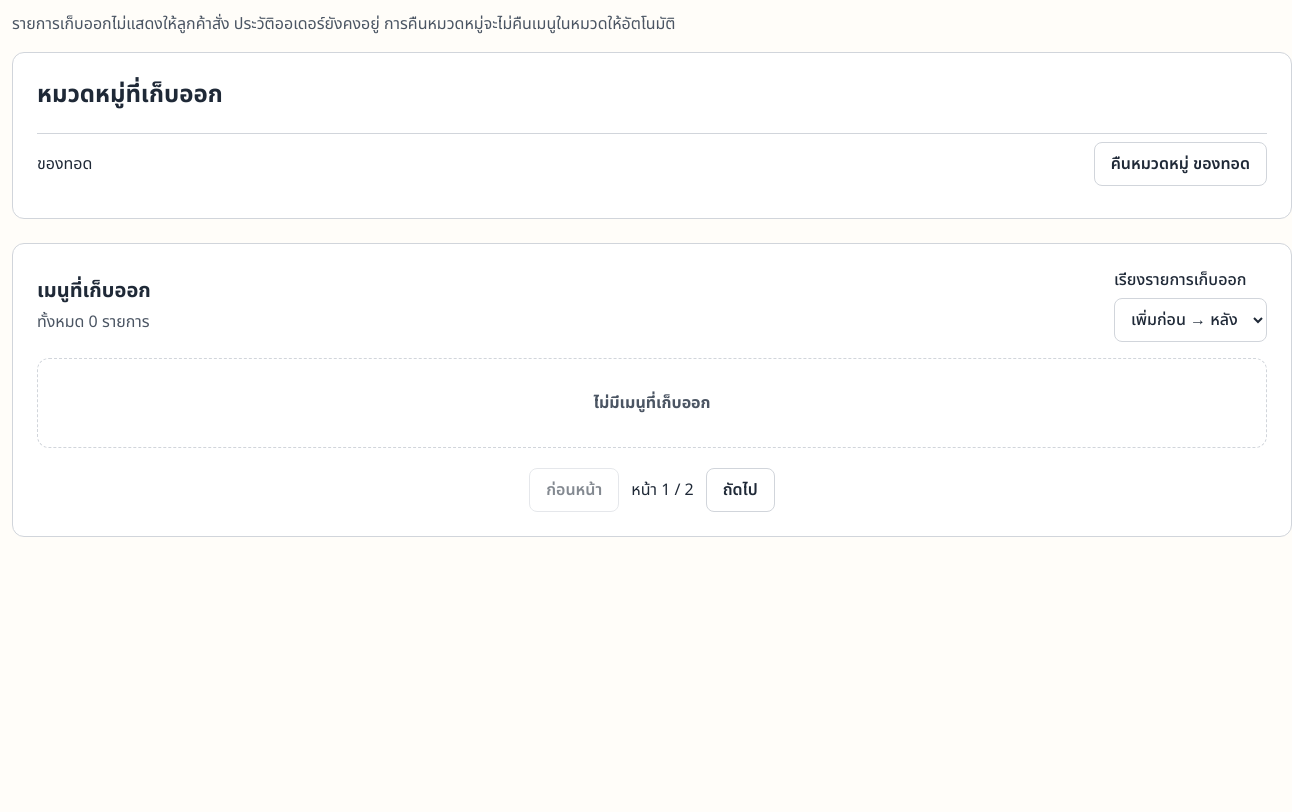
Scenario: MenuArchivePanel UI draft with injected gateway › moves back to an existing page if another Manager emptied the selected page
Expected: the text "หน้า 1 / 2" is shown, [631,478,694,502]
Click the button "ถัดไป": [740, 490] box [706,468,775,512]
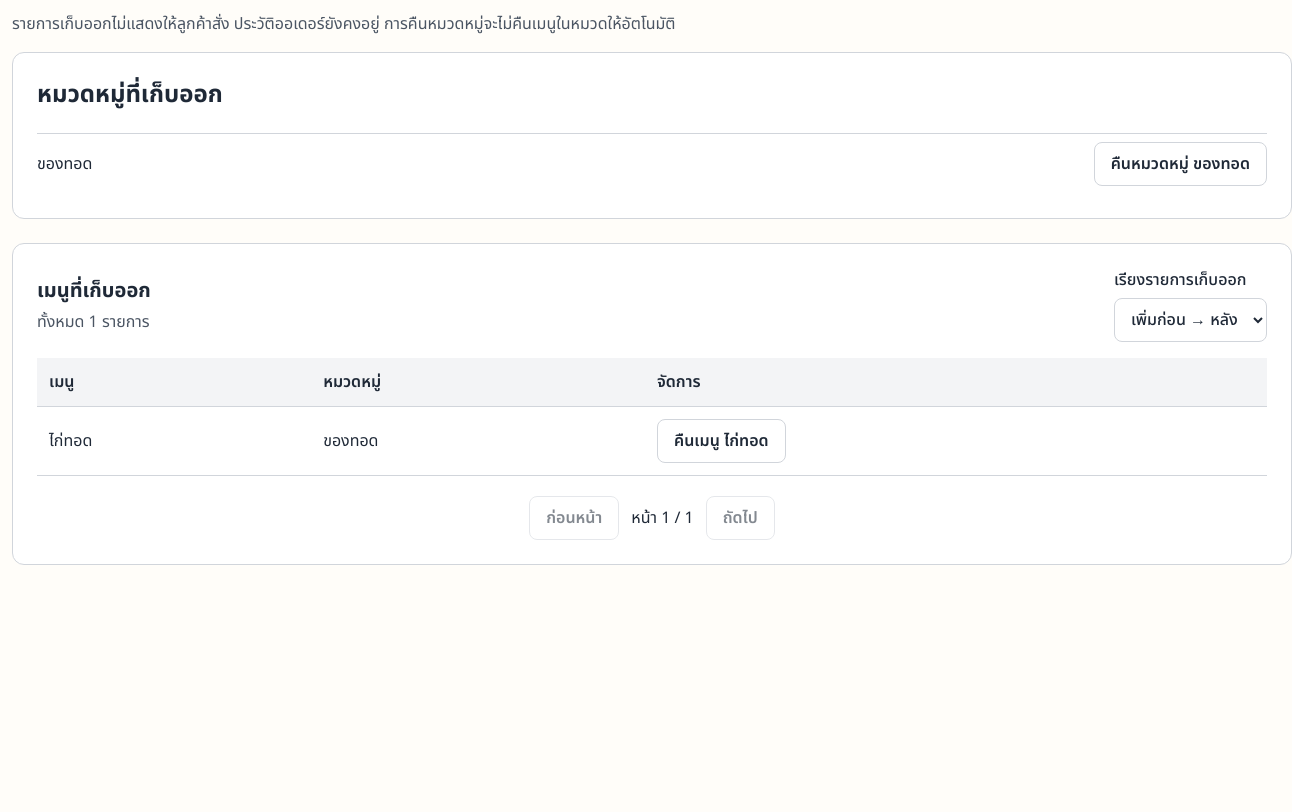
Result: the button "คืนเมนู ไก่ทอด" is shown at [657,419,786,463]
Result: the text "หน้า 1 / 1" is shown at [631,506,694,530]
